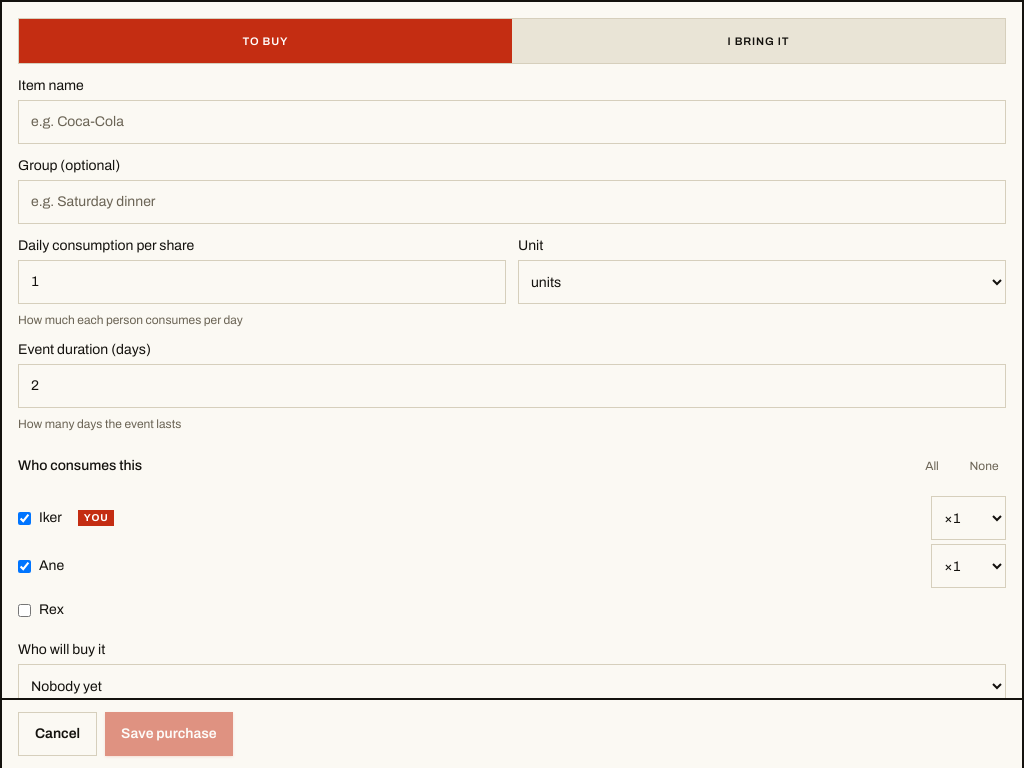
PurchaseForm › refuses a shared staple without a valid quantity and saves nothing
This screenshot has width=1024, height=768.
Type "Salt" into the field labelled "Item name".
click(512, 122); type("Salt")  # box [18,100,1006,144]
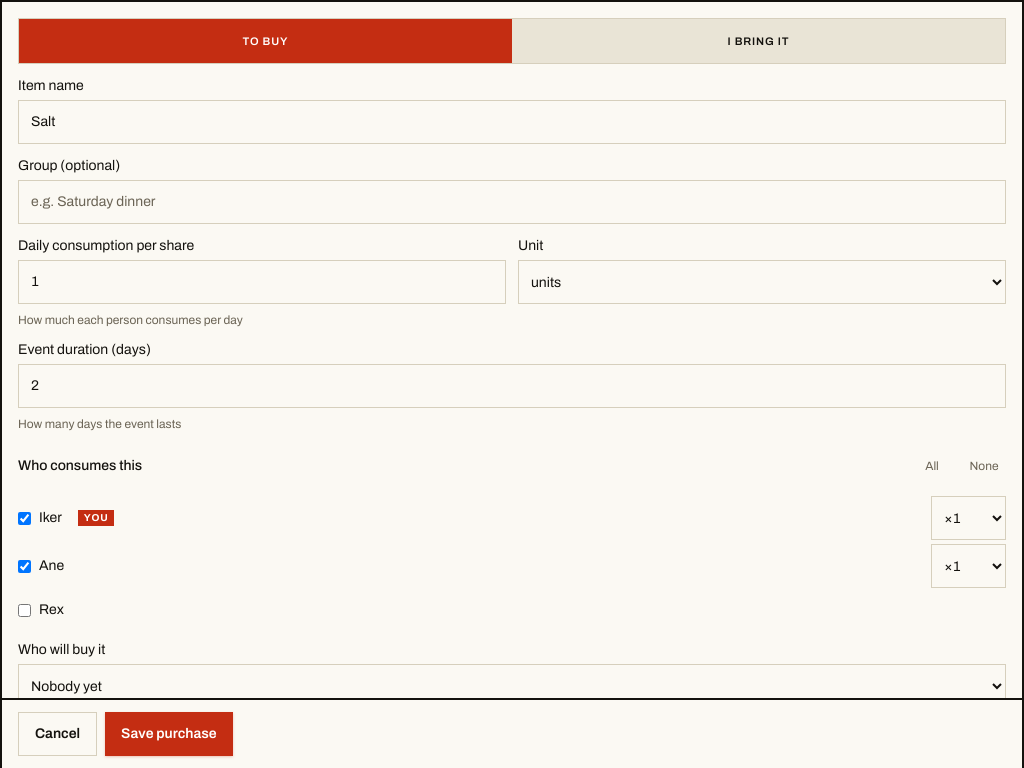
Select "Single unit" in the dropdown labelled "Unit" at (762, 282), box [518,260,1006,304]
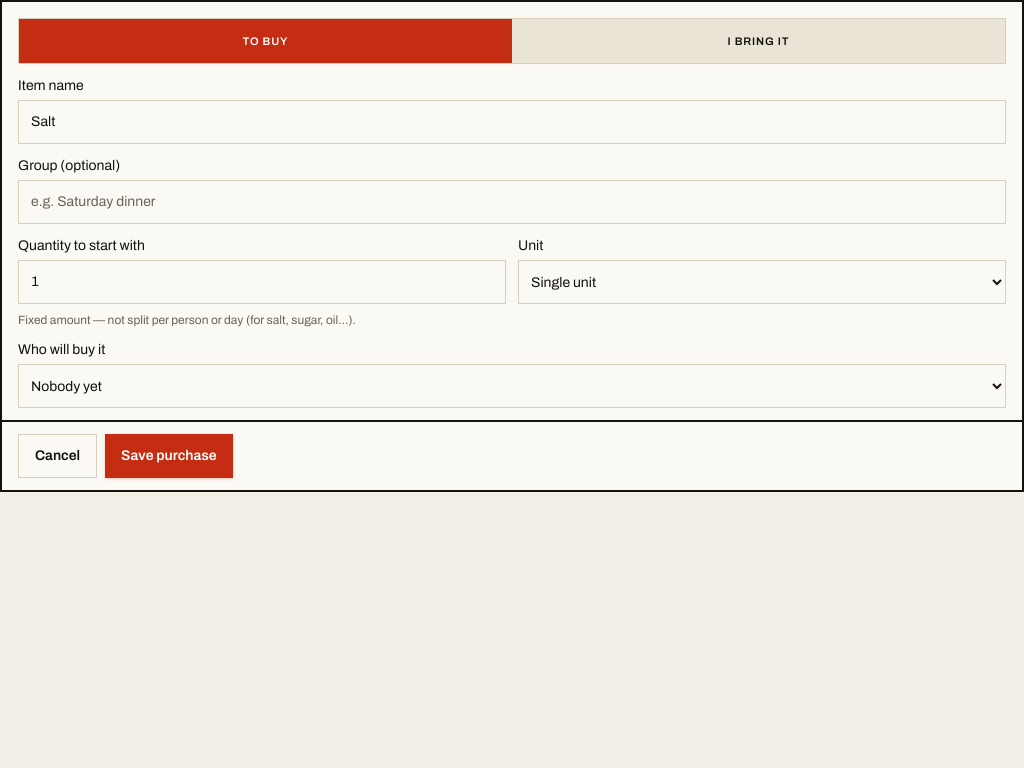
Replace the text in the field labelled "Quantity to start with" with "0" at (262, 282), box [18,260,506,304]
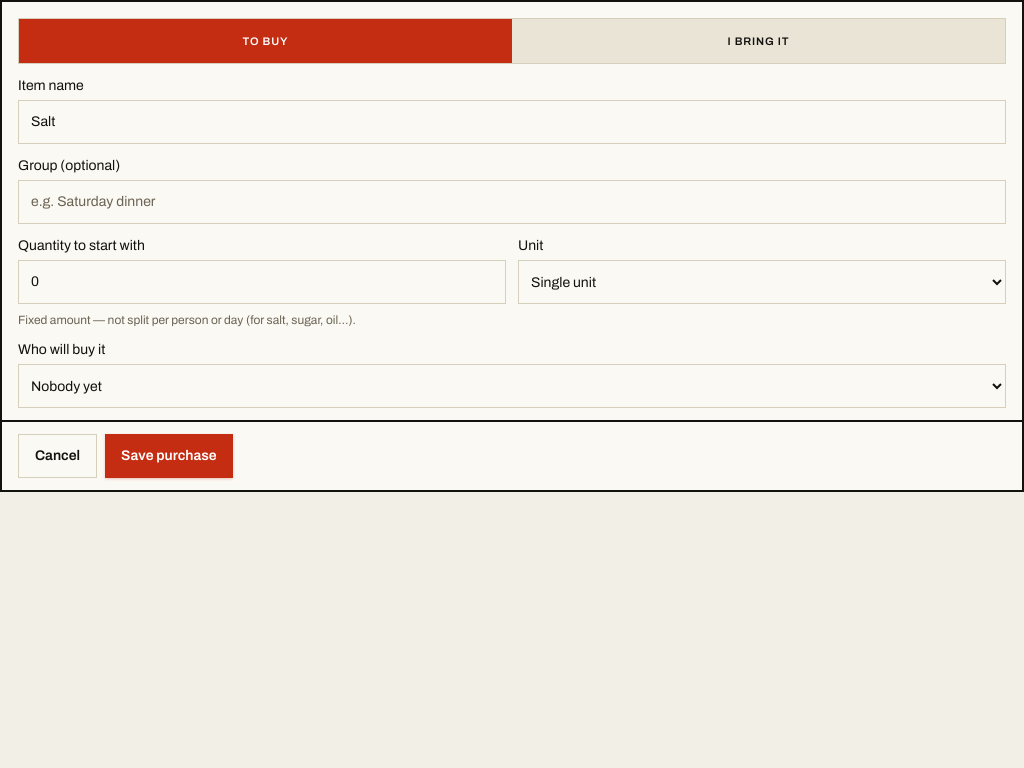
Submit the form "Item name"
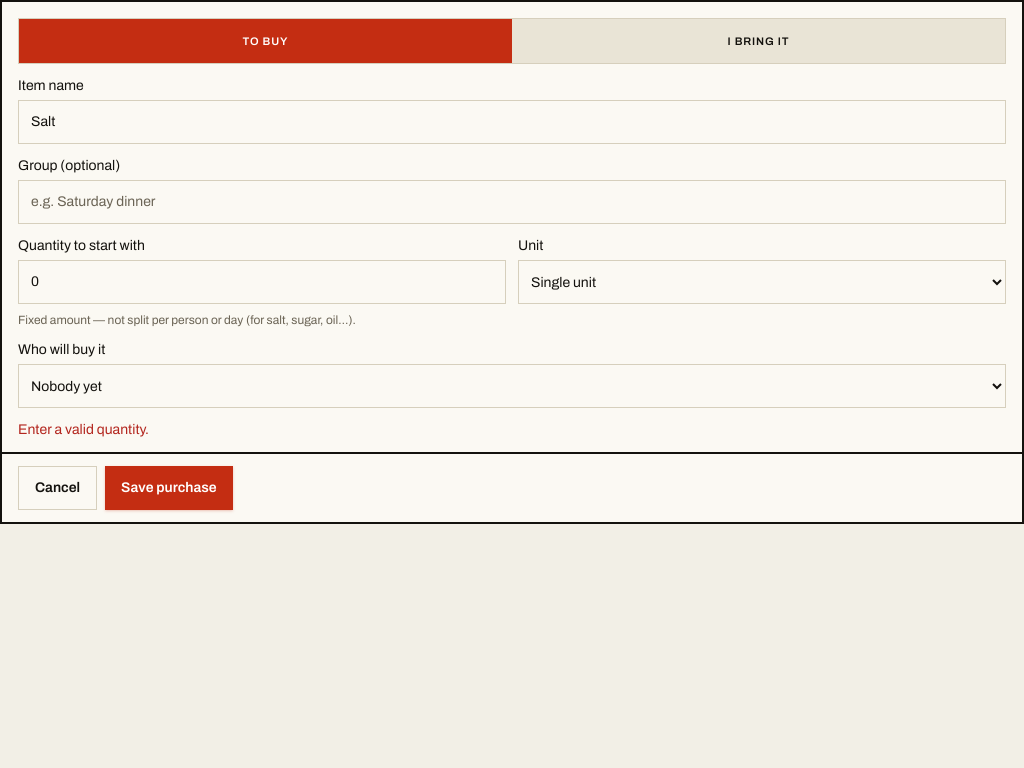
Result: the text "Enter a valid quantity." is shown at [18,422,149,437]
